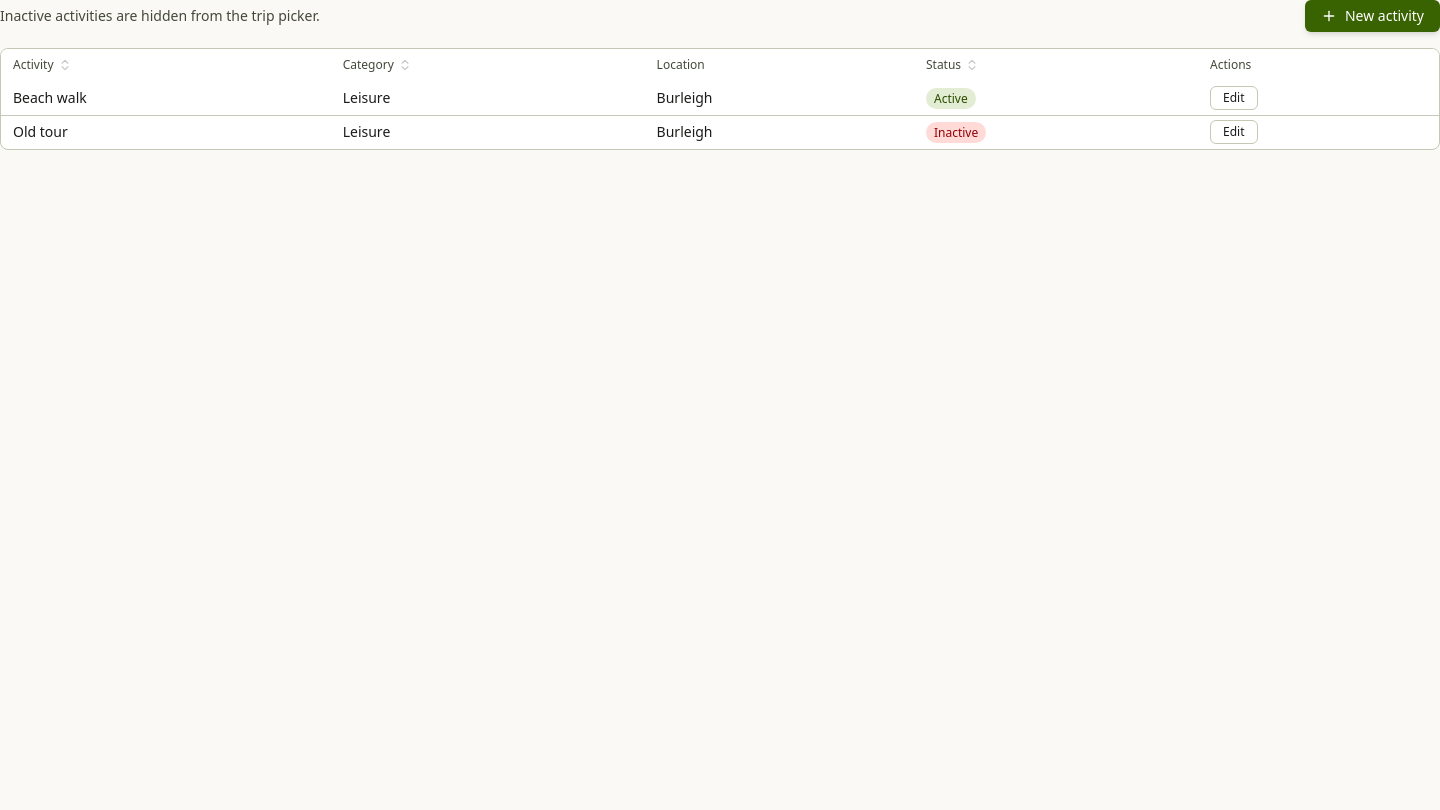
Test: ActivityLibraryTab › asks with the house sm Buttons, and Cancel leaves the activity as it was
The image size is (1440, 810).
Click the button with aria-label "Edit Beach walk".
click(1234, 98)  # box x1=1210 y1=86 x2=1258 y2=110
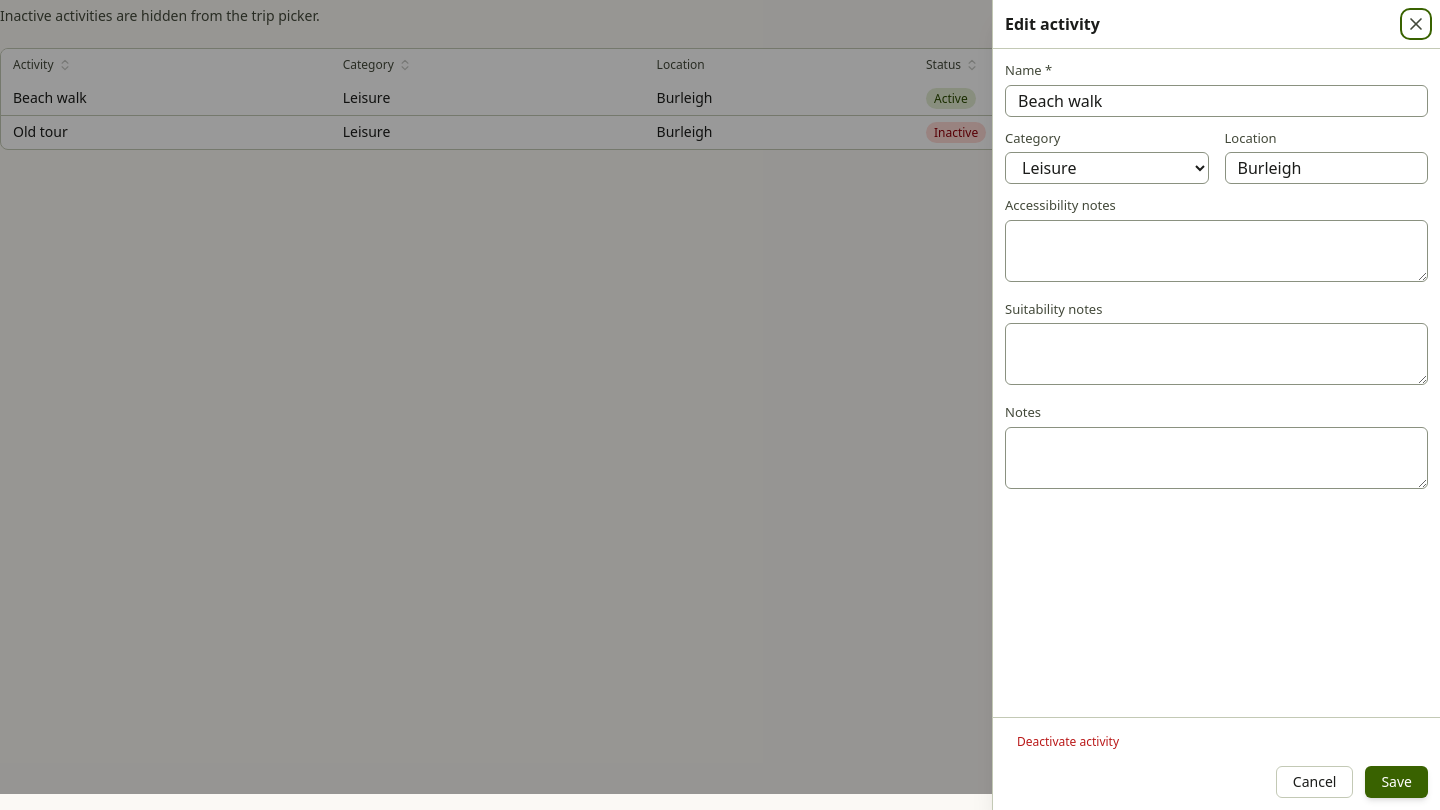
Click the button "Deactivate activity".
click(1068, 742)  # box x1=1005 y1=730 x2=1131 y2=754
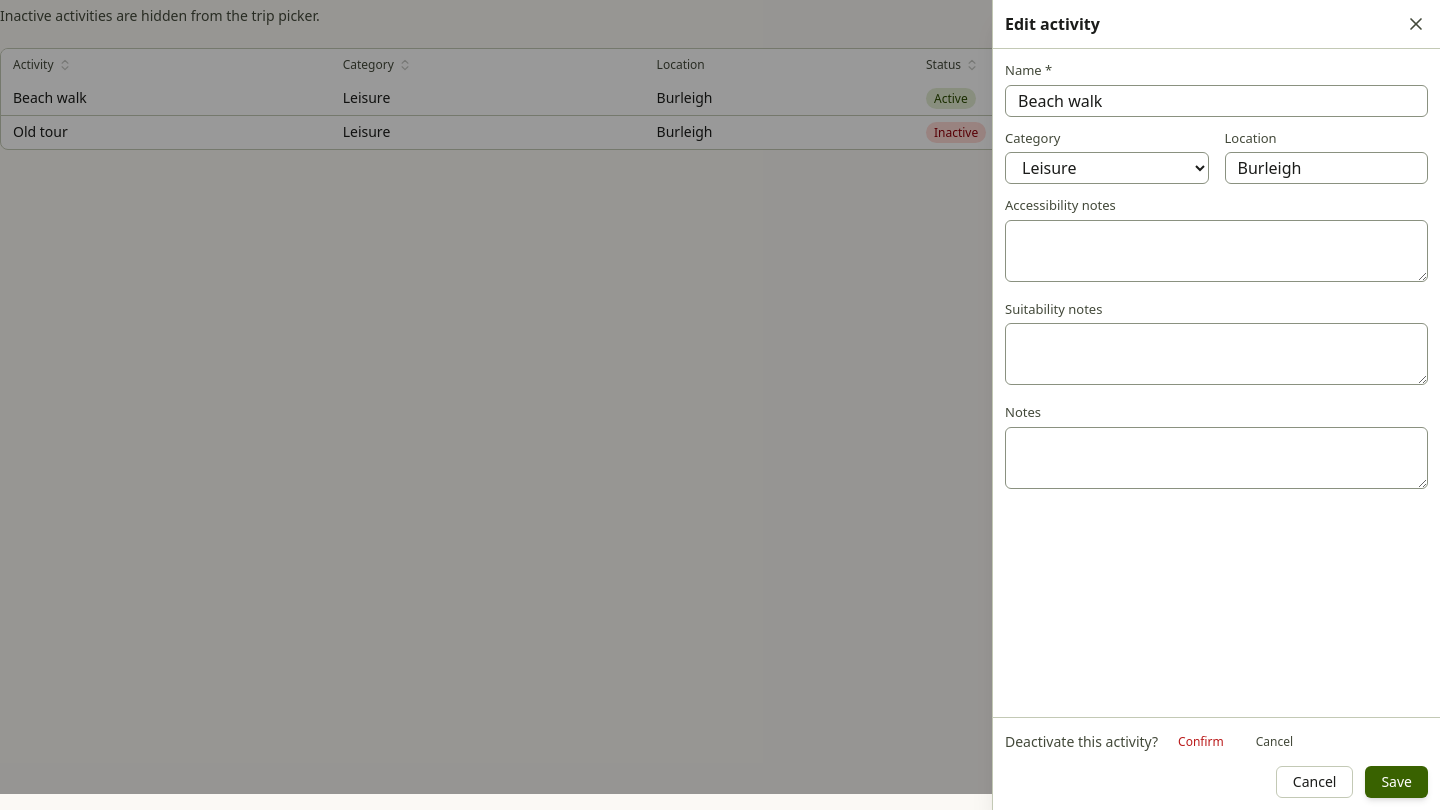
Click the button "Cancel" in the row of "Deactivate this activity?".
click(1274, 742)  # box x1=1244 y1=730 x2=1305 y2=754
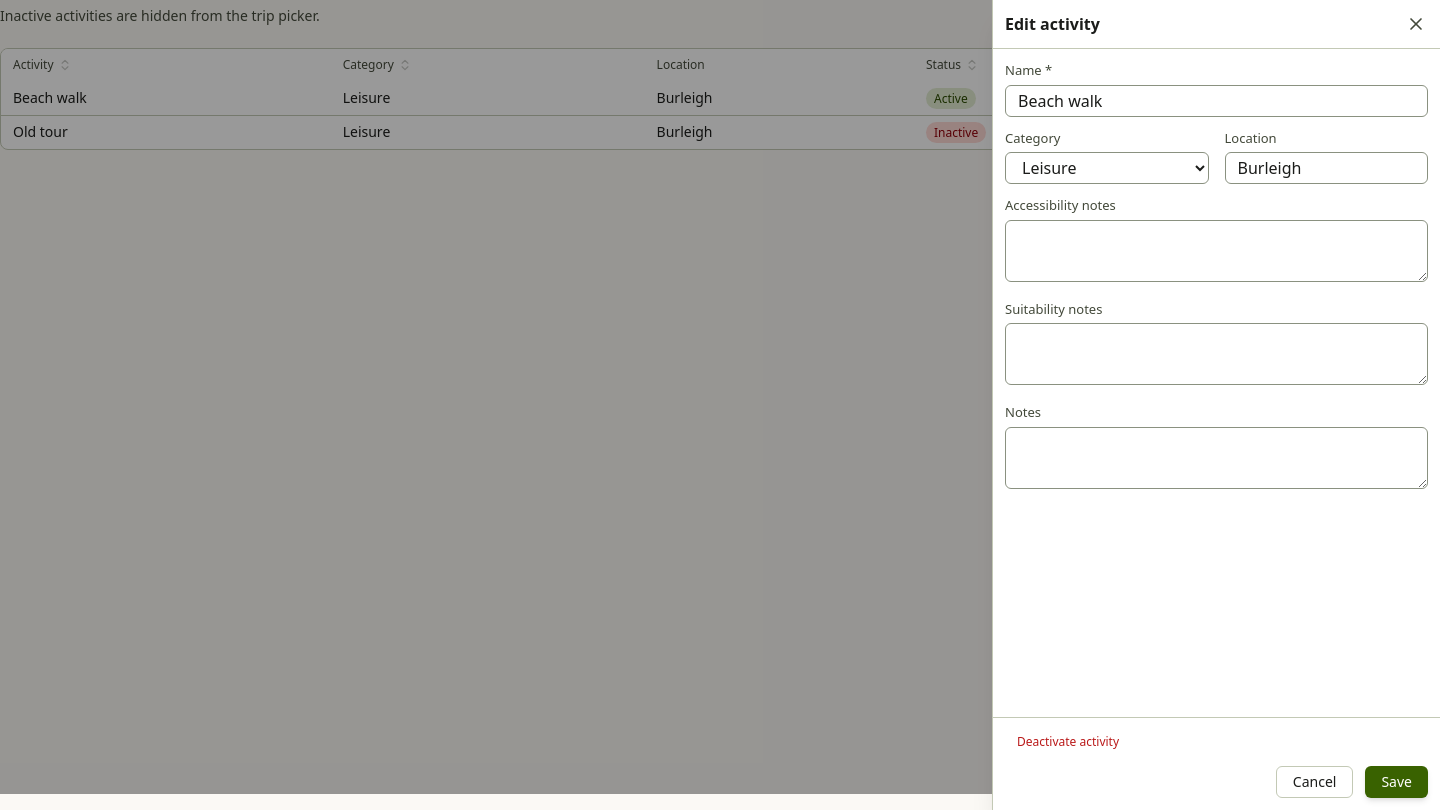
Now the text "Deactivate this activity?" is gone
Now the button "Deactivate activity" is shown, box x1=1005 y1=730 x2=1131 y2=754
